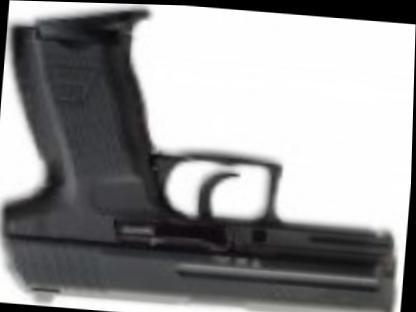pistol: (0, 5, 415, 311)
